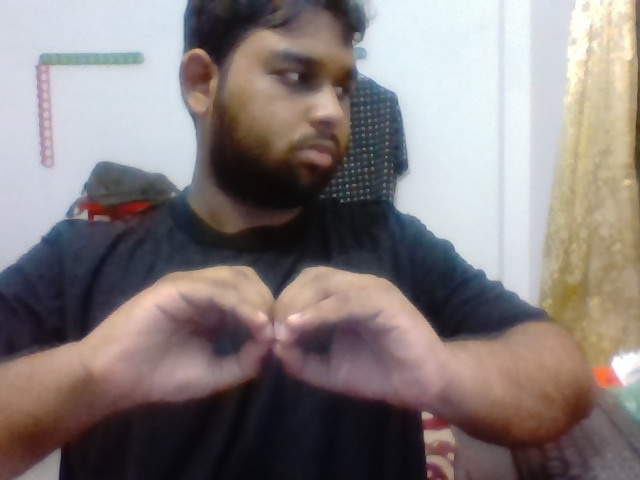B: (119, 256, 465, 422)
